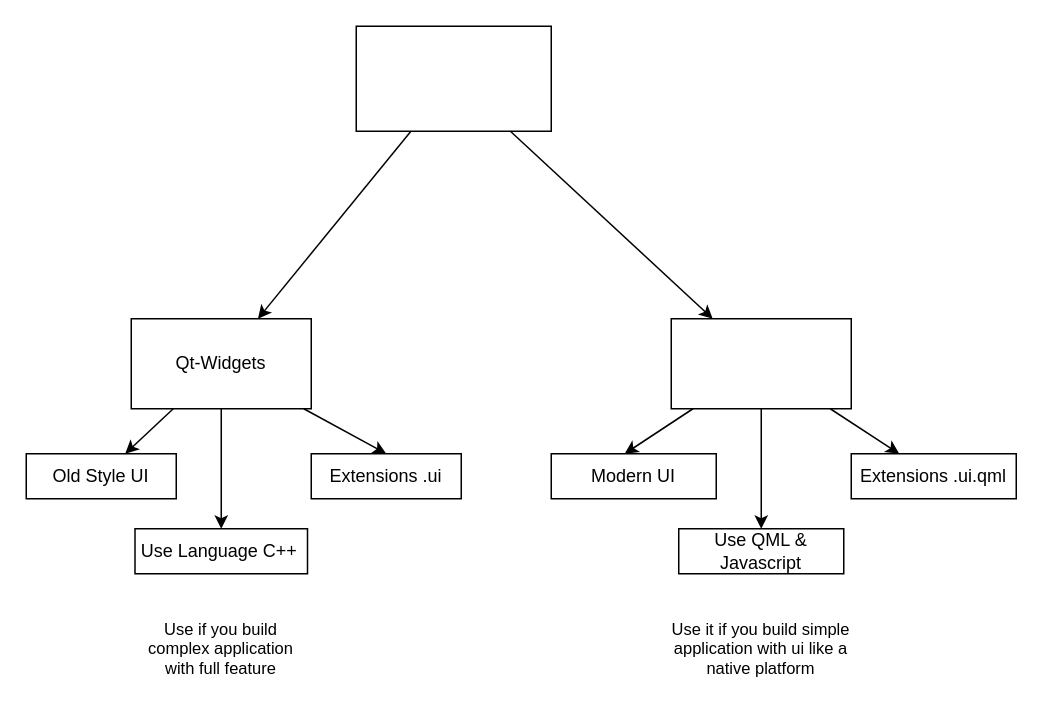
Image size: 1043x705. Some labels were removed from this diagram. The shapes that lost their labels are listed below. From the top down, each one's centre as x and y in pixels, then its label:
point 453,78: Two Ways to Code with Qt-Framework
point 760,363: Qt-Quick
